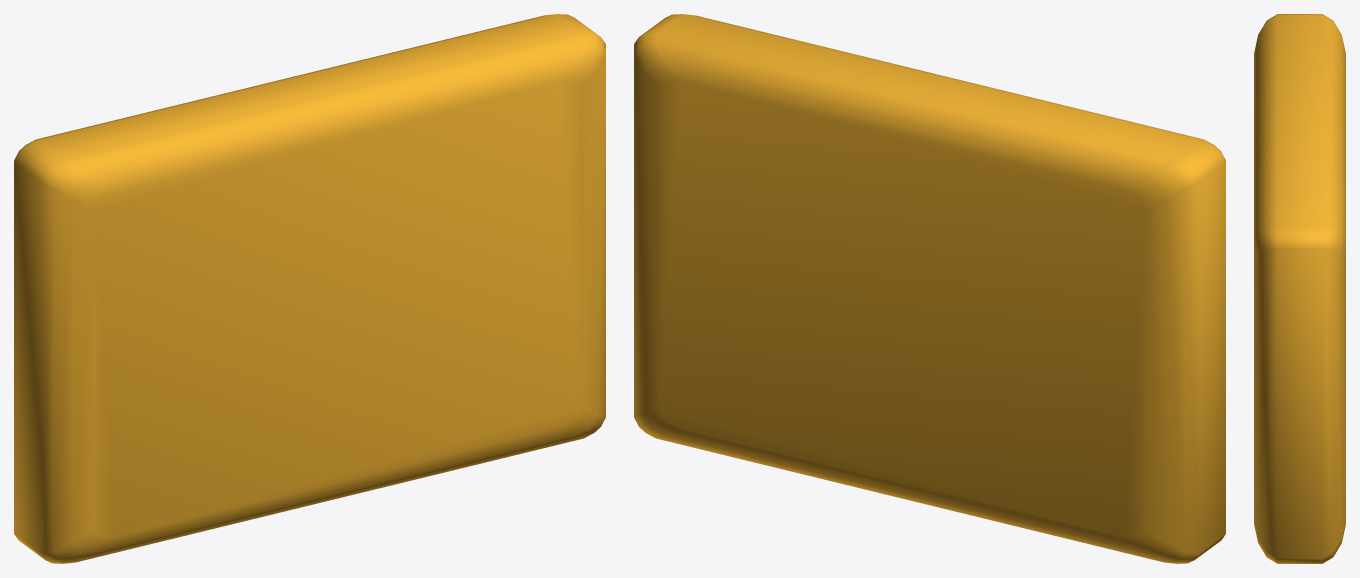
Rendered from Sofa_Back.fbx.
The picture shows the model from 3 angles, left to right: view 1: azimuth 30°, elevation 25°; view 2: azimuth 150°, elevation 25°; view 3: azimuth 270°, elevation 25°; orthographic projection. The views are drawn at different scales.
Visible parts, largest first — view 1: Sofa_Back; view 2: Sofa_Back; view 3: Sofa_Back.
Boxes of the visible parts, x1,y1,x2,y2 form: Sofa_Back: [14, 14, 605, 563]; Sofa_Back: [634, 14, 1225, 563]; Sofa_Back: [1254, 14, 1345, 563].
Bounding box in the file's own units: 80 × 54.55 × 13.53.
Materials: 1 (1 with a texture image).
